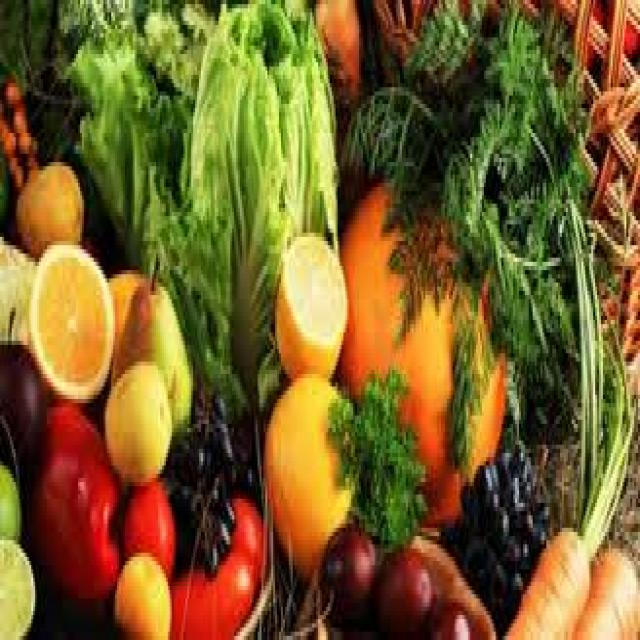organic waste: (66, 42, 246, 407), (181, 0, 337, 407), (339, 187, 502, 532), (439, 0, 593, 270), (552, 174, 636, 532), (291, 519, 494, 636), (437, 436, 548, 624), (25, 395, 117, 615), (263, 366, 357, 578), (166, 386, 259, 582), (326, 362, 425, 544), (382, 178, 470, 340), (338, 79, 435, 220), (115, 249, 191, 428), (168, 494, 263, 636), (29, 237, 111, 399), (488, 245, 576, 382), (274, 224, 346, 378), (0, 0, 139, 75), (447, 258, 497, 466), (494, 524, 585, 632), (103, 362, 170, 482), (316, 519, 377, 636), (392, 0, 474, 83), (505, 340, 568, 444), (0, 336, 41, 491), (570, 544, 638, 636), (16, 158, 82, 245), (138, 0, 208, 79), (373, 544, 433, 636), (119, 482, 176, 578), (113, 548, 170, 636), (108, 262, 144, 370), (0, 233, 33, 341), (0, 83, 37, 179), (0, 532, 33, 636), (418, 590, 464, 636), (0, 462, 18, 540)
